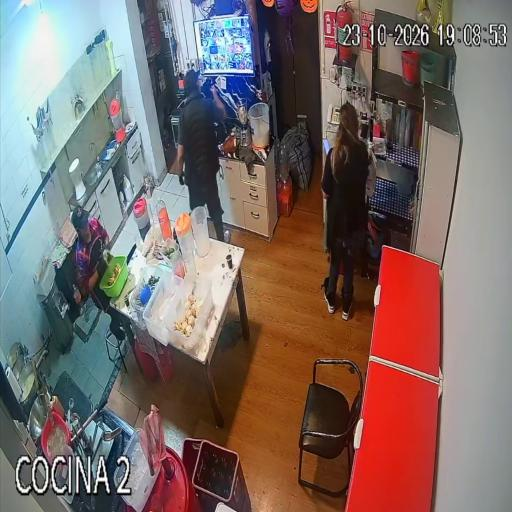Envase Llajua: (51, 395, 64, 418)
Jarra1: (133, 197, 150, 238)
Jarra2: (175, 213, 195, 265)
Jarra3: (190, 207, 210, 257)
Microondas: (170, 101, 184, 148)
Persona1: (178, 70, 225, 239)
Persona2: (73, 206, 125, 342)
Persona3: (322, 104, 369, 319)
Taper2: (128, 266, 170, 328)
Taper3: (143, 273, 182, 344)
Taper4: (163, 273, 214, 359)
